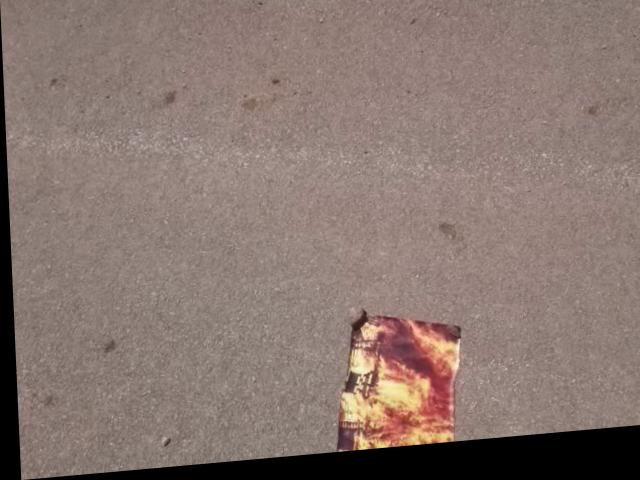fire-poster: (325, 308, 465, 457)
